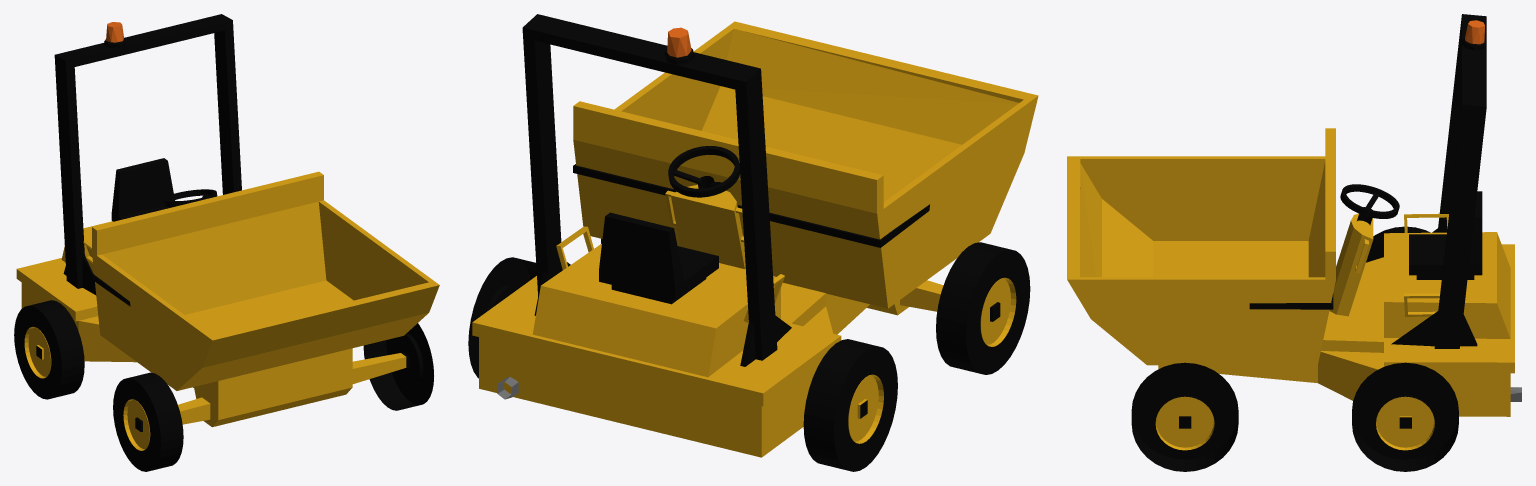
File: construction_vehicle.fbx
3 renders of one model, left to right at view 1: azimuth 30°, elevation 25°; view 2: azimuth 150°, elevation 25°; view 3: azimuth 270°, elevation 25°, orthographic. The views are drawn at different scales.
Parts seen in each view (by area): view 1: vehicle, wheels, seat, steering wheel; view 2: vehicle, wheels, seat, steering wheel; view 3: vehicle, wheels, steering wheel, seat.
Part boxes in pixels (bbox=[...]): vehicle: bbox=[16, 14, 439, 431]; wheels: bbox=[14, 300, 433, 471]; seat: bbox=[111, 158, 174, 221]; steering wheel: bbox=[163, 189, 217, 207]; vehicle: bbox=[472, 14, 1038, 457]; wheels: bbox=[468, 238, 1030, 471]; seat: bbox=[599, 212, 718, 304]; steering wheel: bbox=[665, 146, 745, 269]; vehicle: bbox=[1067, 14, 1521, 428]; wheels: bbox=[1131, 226, 1458, 471]; steering wheel: bbox=[1329, 184, 1399, 316]; seat: bbox=[1409, 191, 1482, 279].
Size of the model in its own units: 160 by 180 by 206.
